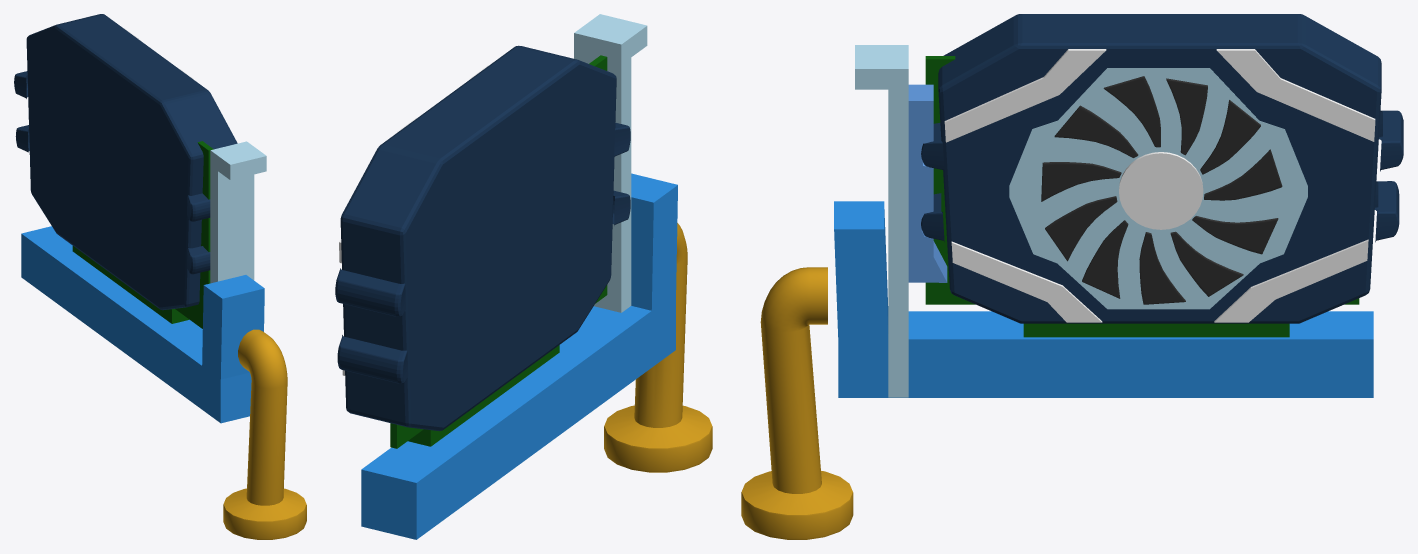
File: makine_1.fbx
3 renders of one model, left to right at view 1: azimuth 30°, elevation 25°; view 2: azimuth 150°, elevation 25°; view 3: azimuth 270°, elevation 25°, orthographic. The views are drawn at different scales.
Parts seen in each view (by area): view 1: Plane.016, Cube.004, Cylinder.001, Cube.003, Plane.013; view 2: Plane.016, Cube.004, Cylinder.001, Cube.003, Plane.013; view 3: Plane.016, Cube.004, Plane.011, Plane.001, Cylinder.001, Plane.018, Cube.003, Plane.013, Cylinder, Plane.012.
Boxes of the visible parts, x1,y1,x2,y2 form: Plane.016: (14,14,237,310); Cube.004: (21,226,264,423); Cylinder.001: (223,329,306,539); Cube.003: (210,141,266,283); Plane.013: (72,141,213,328); Plane.016: (335,45,630,431); Cube.004: (361,173,677,539); Cylinder.001: (604,223,712,472); Cube.003: (574,14,647,312); Plane.013: (390,55,607,448); Plane.016: (921,14,1403,323); Cube.004: (834,201,1373,397); Plane.011: (1009,68,1307,309); Plane.001: (1041,76,1282,304); Cylinder.001: (741,267,853,539); Plane.018: (944,49,1375,322); Cube.003: (855,45,908,397); Plane.013: (925,56,1359,337); Cylinder: (1119,152,1203,229); Plane.012: (908,84,947,282).
Bounding box in the file's own units: 71.4 × 350 × 428.
